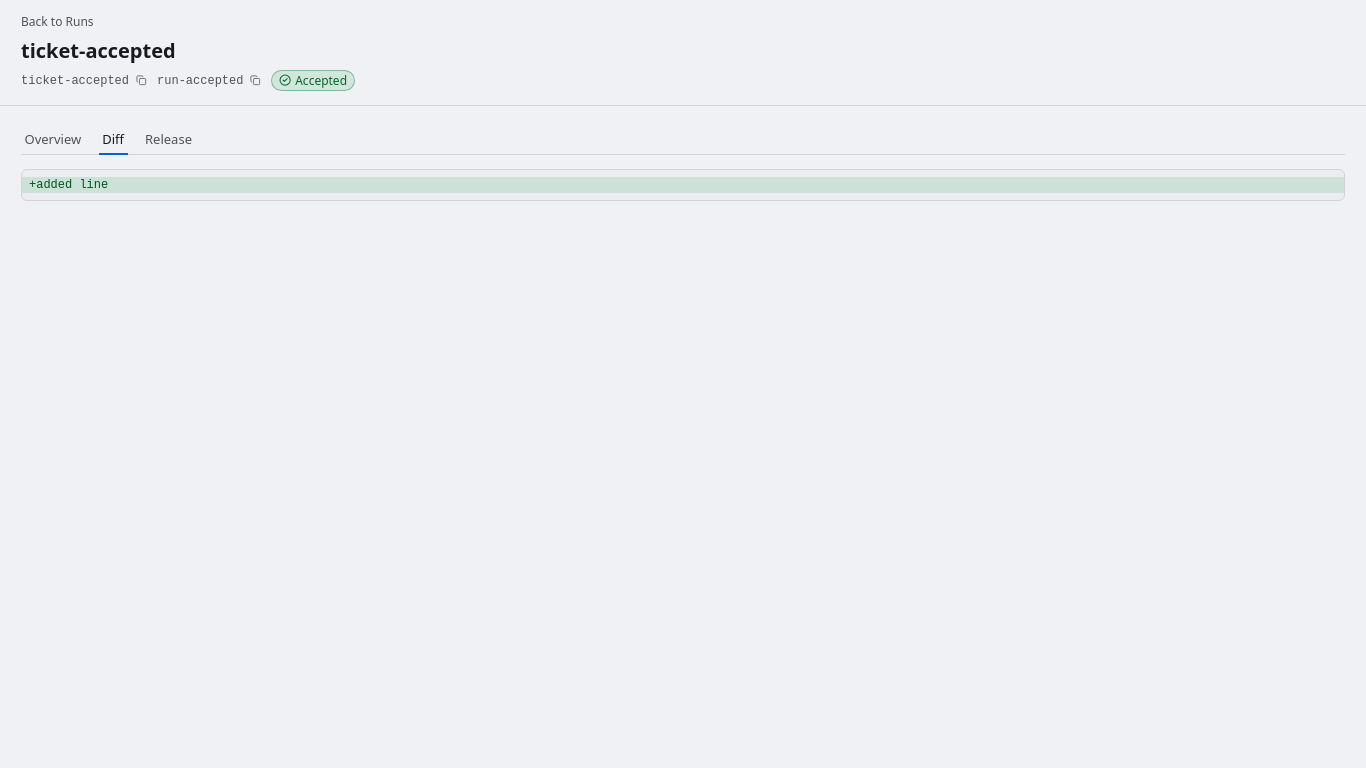
it: a shared diff link lands on the diff view, and Overview returns to the run page
Expected: the text "+added line" is shown, [22,177,1344,193]
Click the tab "Overview" at [53, 140], box [21,124,85,155]
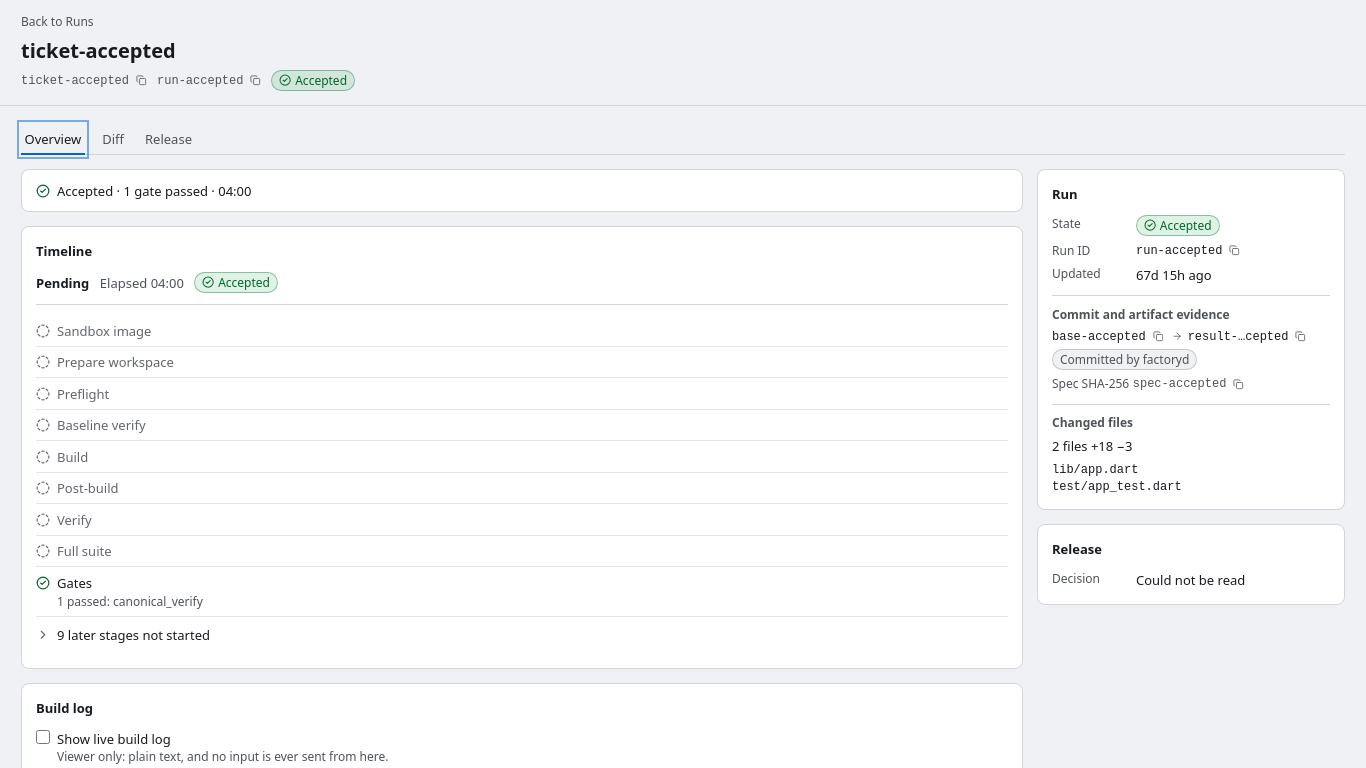
Now the heading "Timeline" is shown, box [36,241,92,261]
